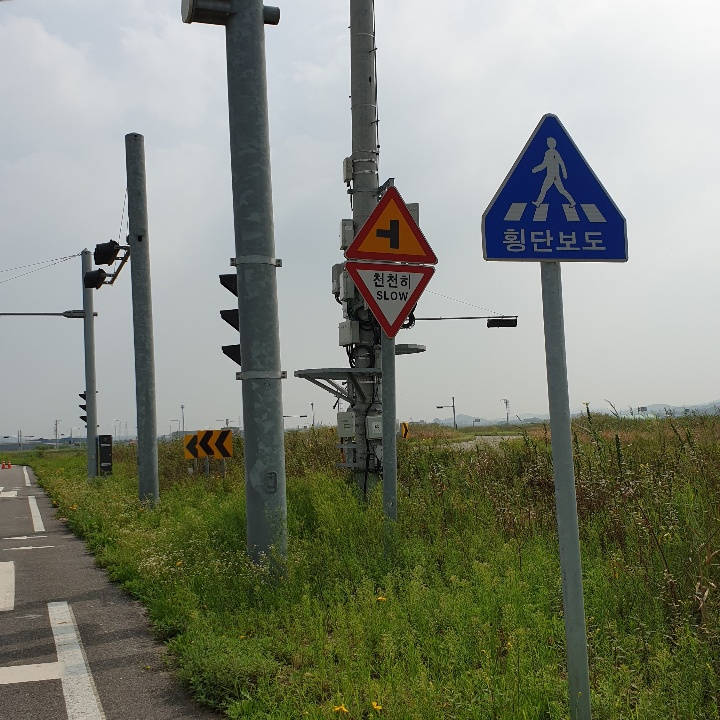cross: (523, 126, 582, 218)
